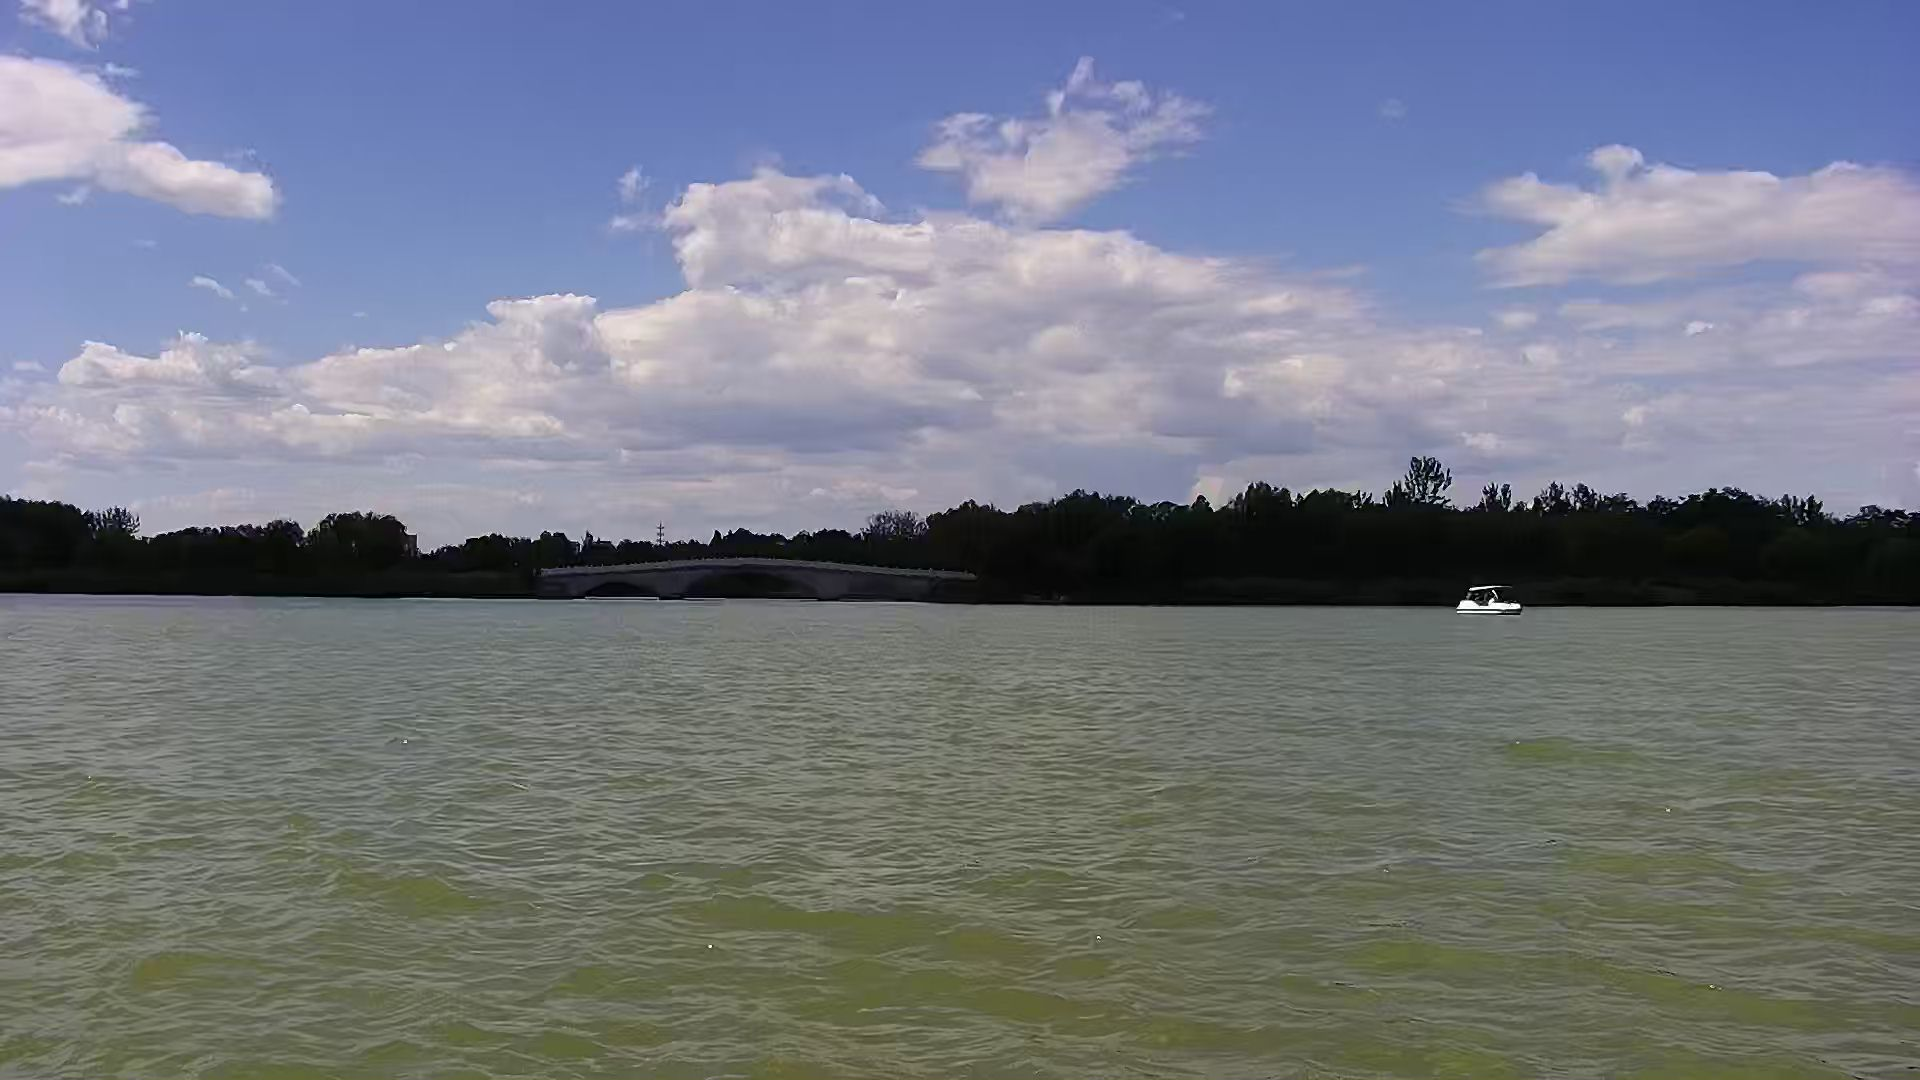boat: (1448, 578, 1524, 620)
bridge: (535, 550, 986, 607)
